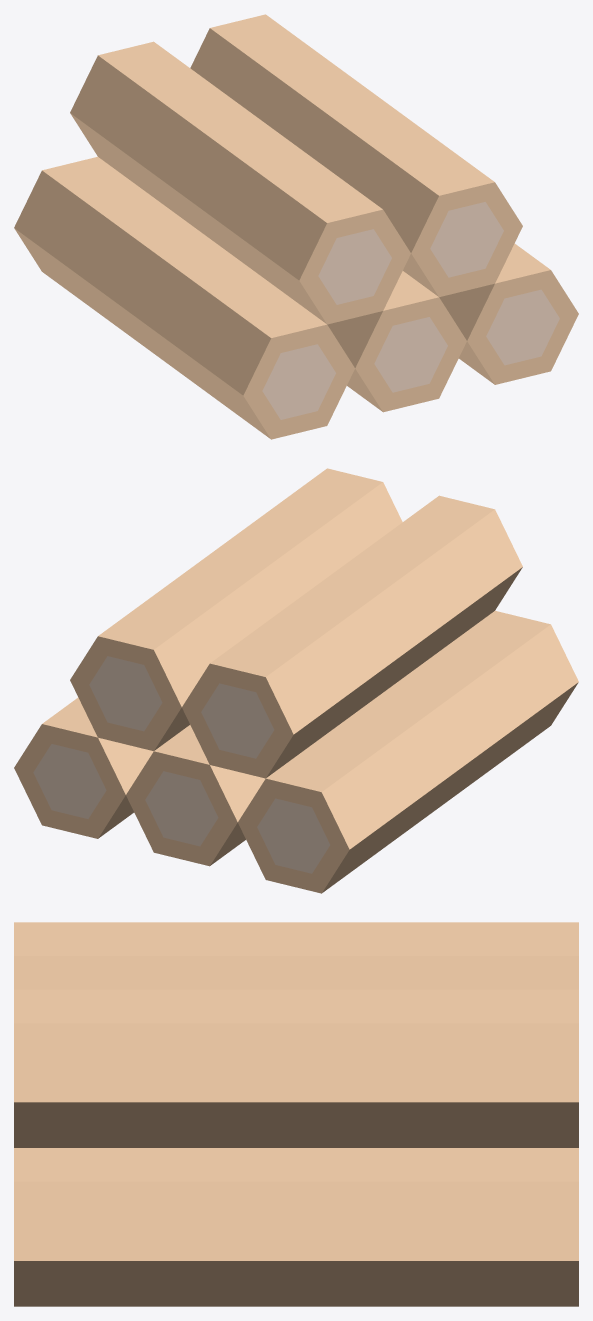
The model's file is logs_stackLarge.glb.
3 views of the same model, one above another, from view 1: azimuth 30°, elevation 25°; view 2: azimuth 150°, elevation 25°; view 3: azimuth 270°, elevation 25° (orthographic). The views are drawn at different scales.
Visible parts, largest first — view 1: logs_stackLarge; view 2: logs_stackLarge; view 3: logs_stackLarge.
Boxes of the visible parts, x1,y1,x2,y2 form: logs_stackLarge: [14, 14, 578, 439]; logs_stackLarge: [14, 468, 578, 893]; logs_stackLarge: [14, 922, 578, 1306].
Size of the model in its own units: 0.6 by 0.3464 by 0.71.
